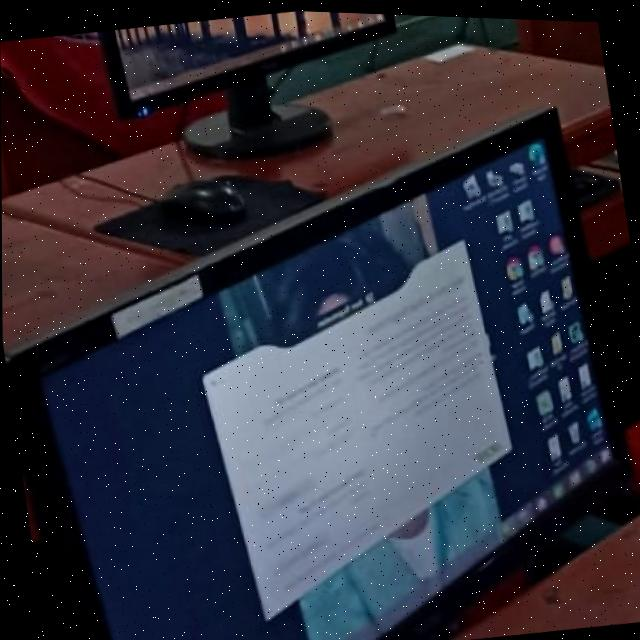onscreen: (5, 107, 623, 640), (100, 9, 396, 116)
